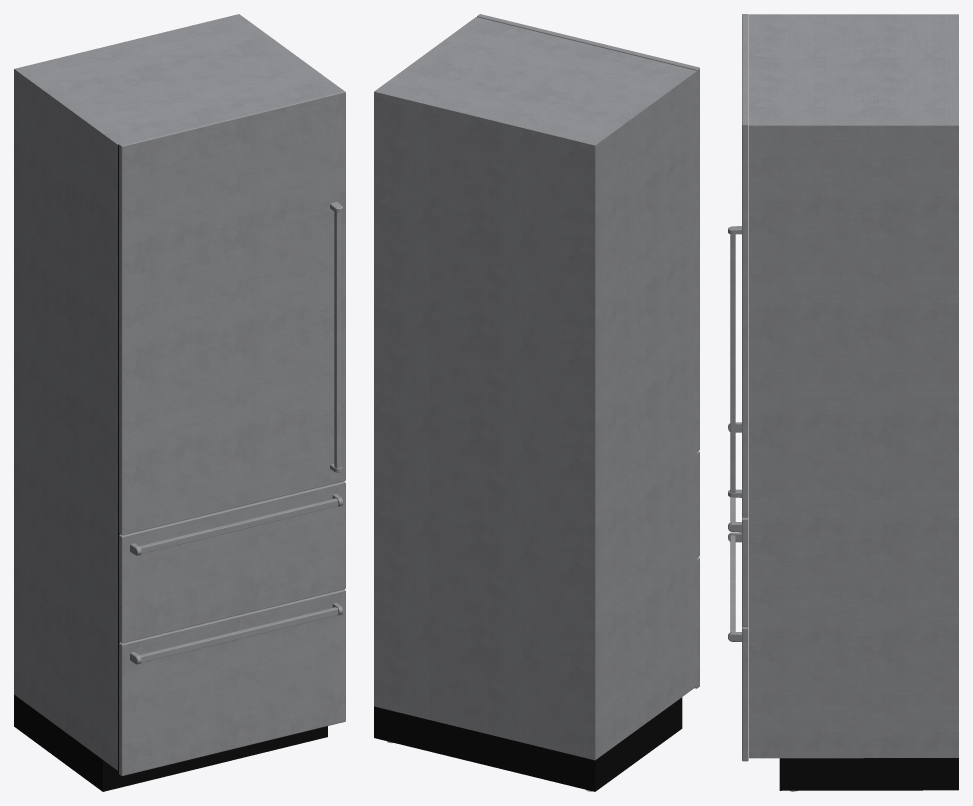
Rendered from REFRIGERATOR_IT-30CIID.glb.
The picture shows the model from 3 angles, left to right: view 1: azimuth 30°, elevation 25°; view 2: azimuth 150°, elevation 25°; view 3: azimuth 270°, elevation 25°; orthographic projection. The views are drawn at different scales.
Parts seen in each view (by area): view 1: IT_30CIID; view 2: IT_30CIID; view 3: IT_30CIID.
Boxes of the visible parts, <box> form: IT_30CIID: <box>14,14,345,791</box>; IT_30CIID: <box>374,14,699,791</box>; IT_30CIID: <box>728,14,958,791</box>.
Size of the model in its own units: 754 by 2120 by 663.
2 materials, 1 textured.
